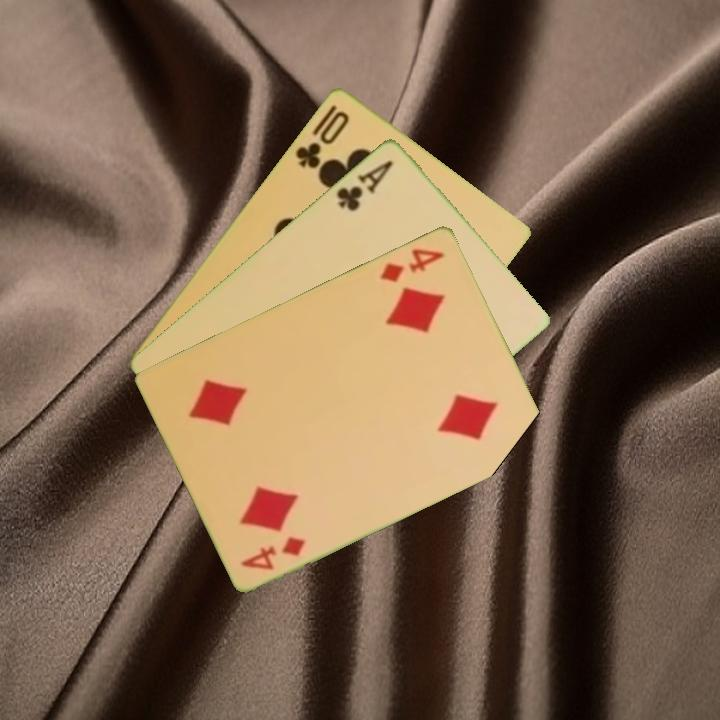10c: (291, 106, 352, 171)
4d: (376, 244, 448, 285), (237, 532, 309, 573)
Ac: (332, 155, 396, 214)
